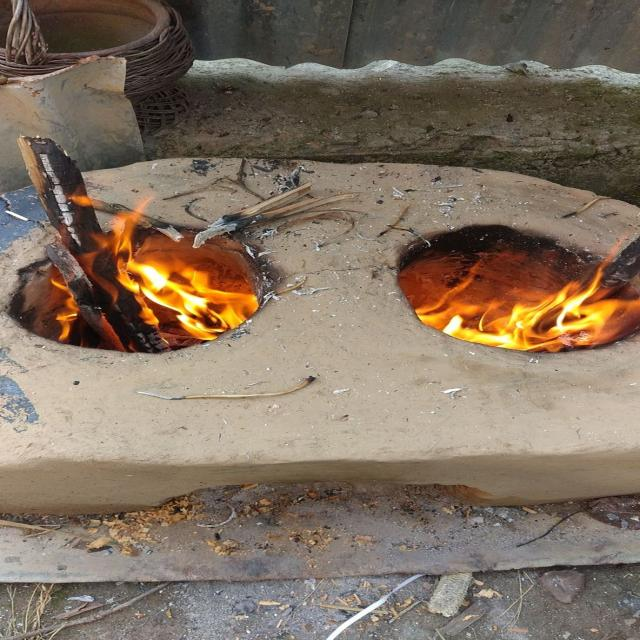fire: (48, 185, 258, 352), (396, 234, 640, 353)
